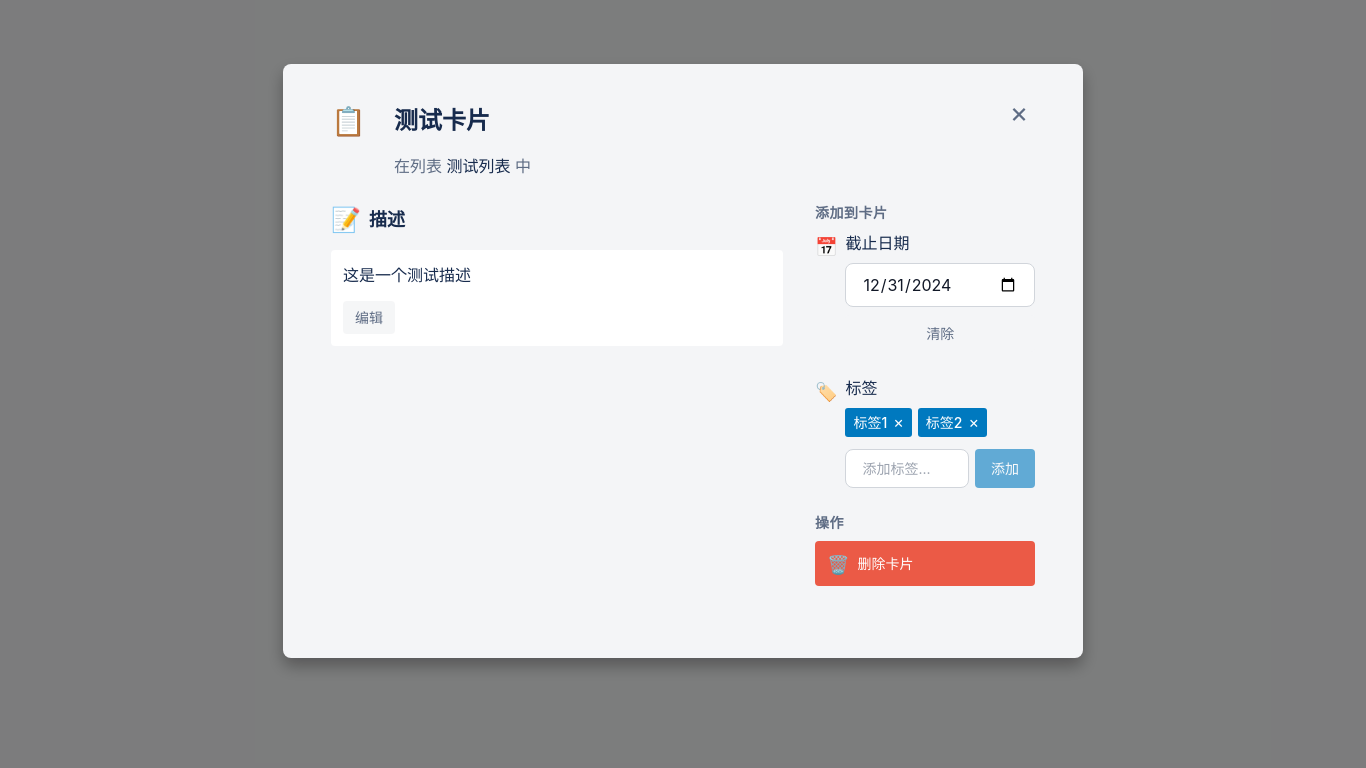
Test: CardDetail.vue › 编辑卡片标题 › 点击标题进入编辑模式
The image size is (1366, 768).
Click the heading with class "card-title" at (442, 120), box [394,106,490,135]
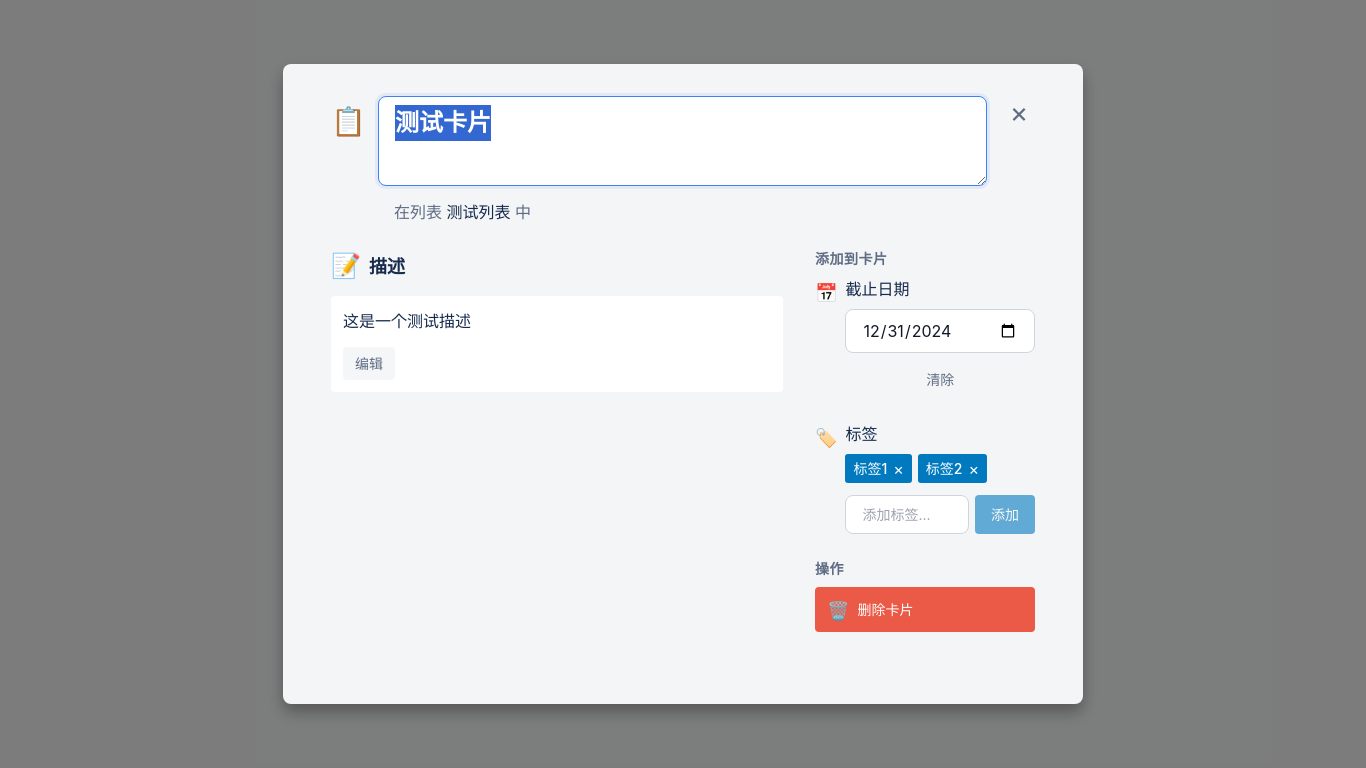
expect the text box with class "title-input" holds "测试卡片": met, box [378,96,987,186]
